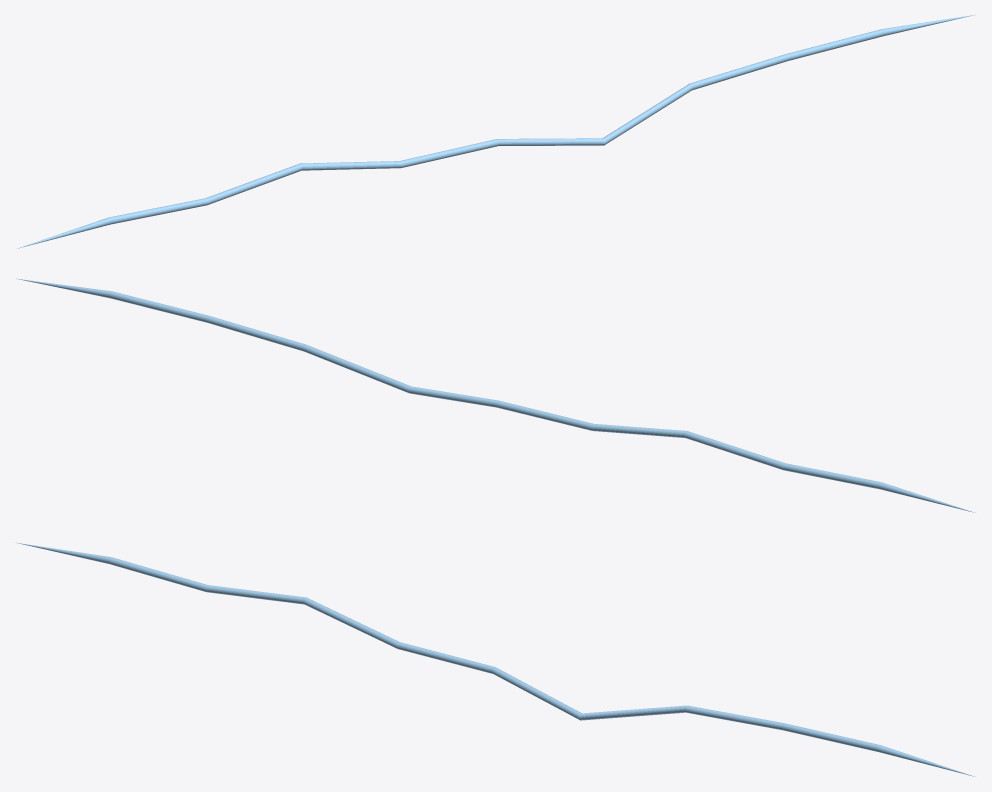
The model's file is modelstun_bolt.fbx.
The picture shows the model from 3 angles, top to bottom: view 1: azimuth 30°, elevation 25°; view 2: azimuth 150°, elevation 25°; view 3: azimuth 330°, elevation 25°; orthographic projection.
Parts seen in each view (by area): view 1: Cylinder; view 2: Cylinder; view 3: Cylinder.
Part boxes in pixels (left/top/right/bottom): Cylinder: left=16, top=14, right=975, bottom=248; Cylinder: left=16, top=278, right=975, bottom=512; Cylinder: left=16, top=542, right=975, bottom=776.
Bounding box in the file's own units: 643 × 27.03 × 19.61.
